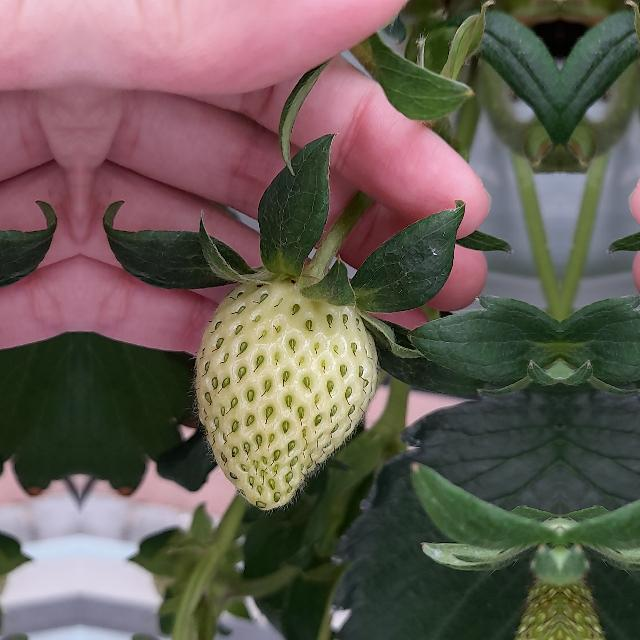Health_25: (195, 276, 377, 509)
